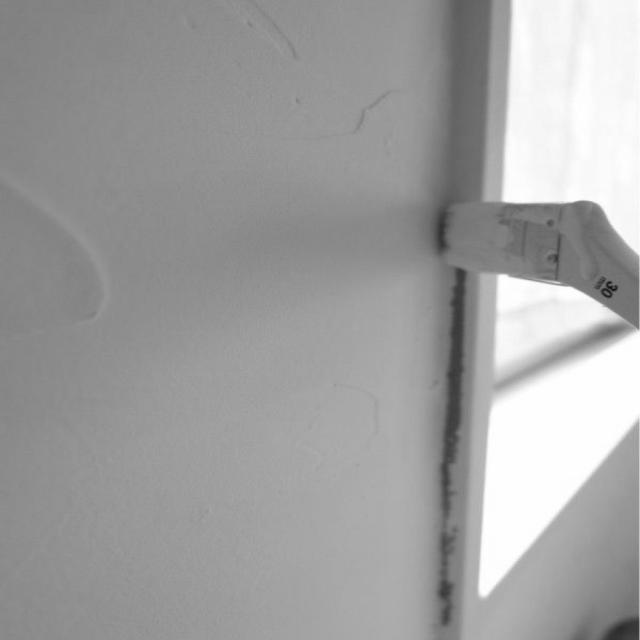trowels marks: (164, 0, 448, 158), (0, 135, 116, 340), (262, 358, 398, 472)
